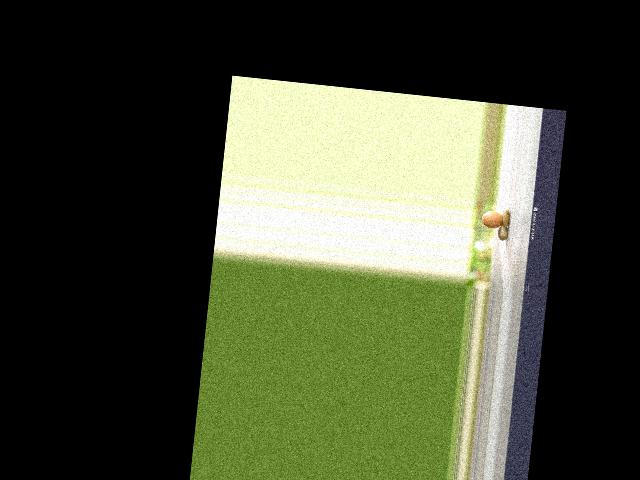egg: (481, 210, 504, 229)
